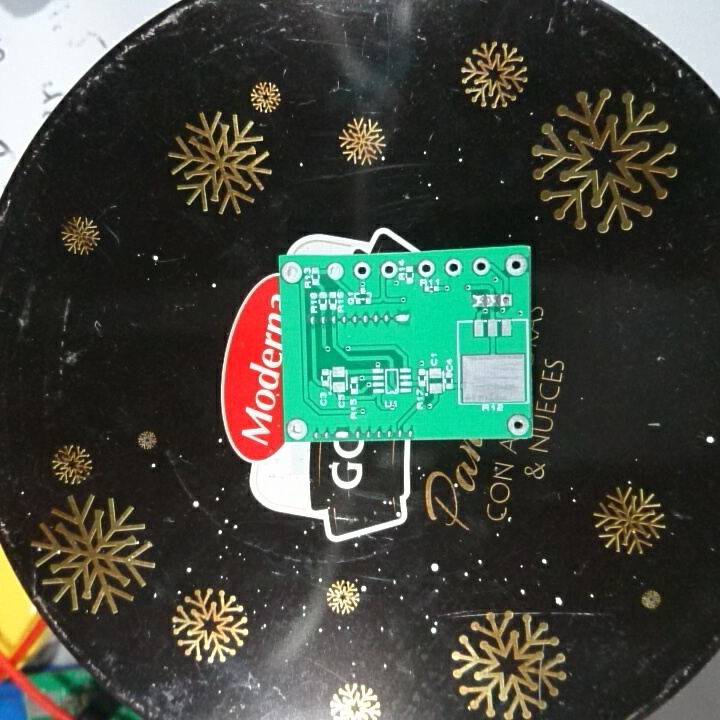F: (502, 252, 528, 283), (280, 258, 306, 288), (504, 410, 531, 436), (322, 260, 347, 283), (442, 255, 464, 281), (284, 418, 310, 440), (470, 254, 493, 278), (378, 259, 399, 284), (416, 258, 439, 280), (350, 261, 374, 281), (499, 291, 515, 309)
P: (332, 426, 351, 443), (393, 310, 413, 326)
